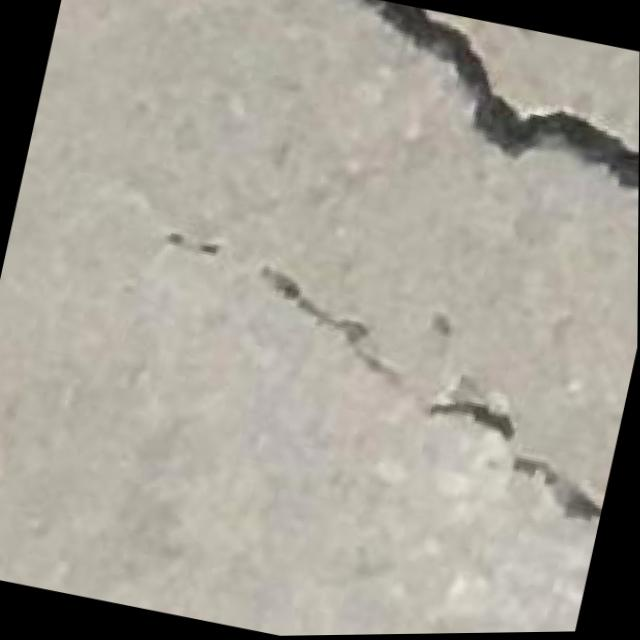Crack: (314, 0, 640, 229), (409, 368, 622, 528), (240, 256, 417, 388)
